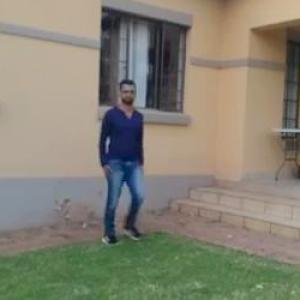follow: (89, 78, 145, 246)
